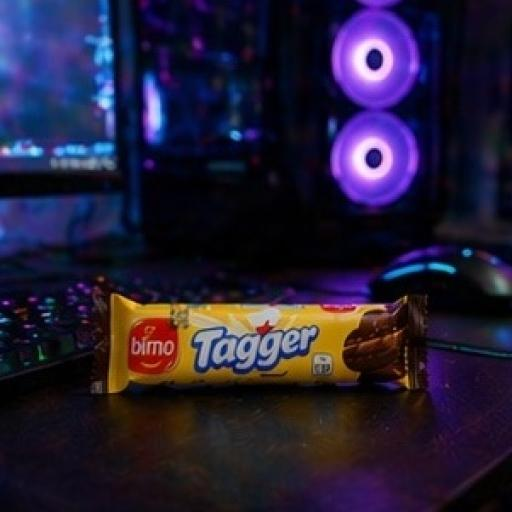tagger: (58, 200, 447, 497)
